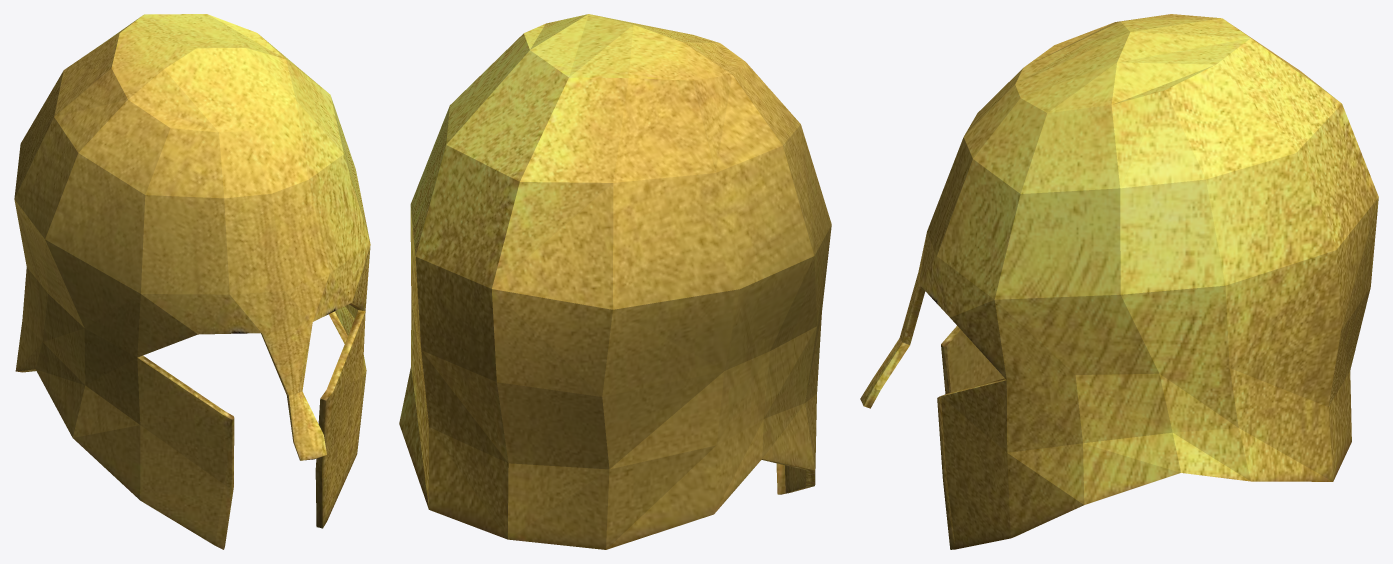
Rendered from mhw_grinsegold_corinthian_helmet.glb.
3 renders of one model, left to right at view 1: azimuth 30°, elevation 25°; view 2: azimuth 150°, elevation 25°; view 3: azimuth 270°, elevation 25°, orthographic. The views are drawn at different scales.
Parts seen in each view (by area): view 1: mhw_grinsegold_corinthian_helmet; view 2: mhw_grinsegold_corinthian_helmet; view 3: mhw_grinsegold_corinthian_helmet.
Part boxes in pixels (<box>): mhw_grinsegold_corinthian_helmet: <box>14,14,370,549</box>; mhw_grinsegold_corinthian_helmet: <box>399,14,831,549</box>; mhw_grinsegold_corinthian_helmet: <box>860,14,1378,549</box>.
Size of the model in its own units: 0.2141 by 0.288 by 0.2751.
1 material, 1 textured.
